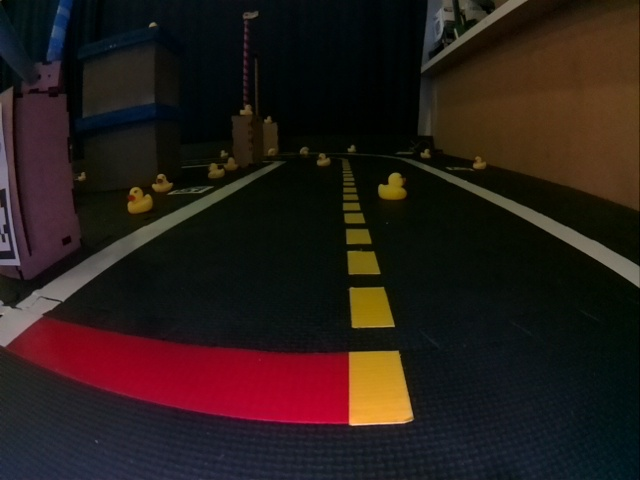Duckie: (378, 172, 407, 200), (126, 188, 153, 213), (153, 174, 173, 192), (207, 163, 223, 178), (317, 153, 330, 166), (224, 158, 238, 170), (240, 104, 252, 115), (473, 156, 482, 169), (420, 149, 430, 158), (267, 148, 276, 157), (299, 147, 309, 155), (78, 172, 87, 180), (348, 145, 356, 153), (263, 116, 272, 123), (221, 150, 228, 158)
QR code: (0, 187, 17, 263), (169, 185, 213, 194), (446, 166, 471, 174)
